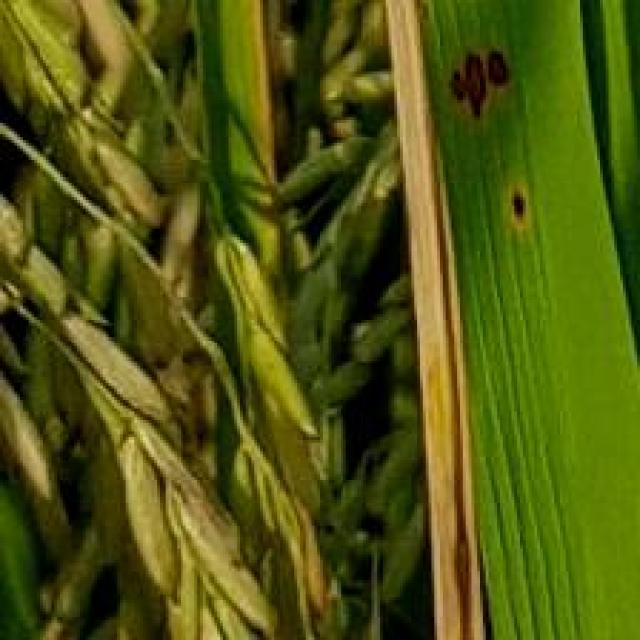Brown_Spot: (437, 23, 526, 114), (491, 168, 543, 232)
